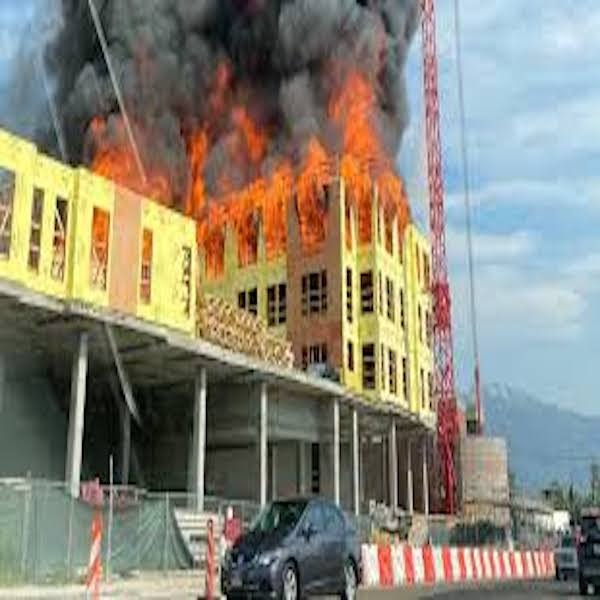fire: (190, 108, 323, 256), (91, 130, 178, 202), (343, 99, 378, 242), (382, 141, 409, 228)
